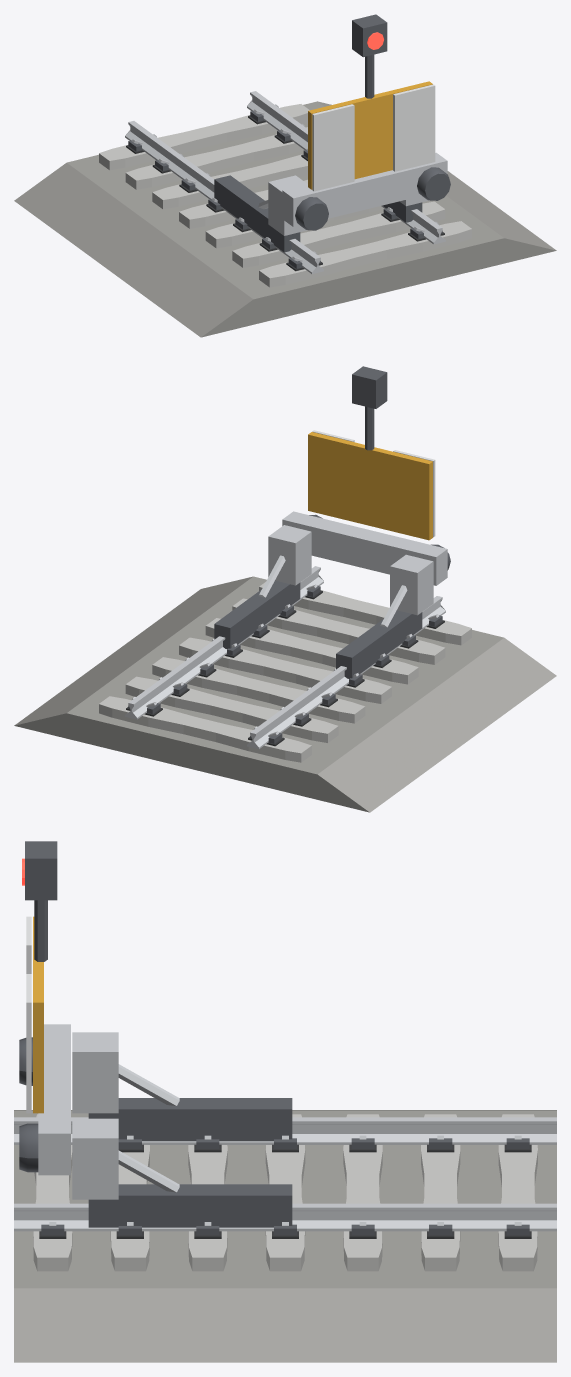
File: modern-rail-and-metro-network-friction-buffer-stop-9b4cc086__13696.glb
3 renders of one model, top to bottom at view 1: azimuth 30°, elevation 25°; view 2: azimuth 150°, elevation 25°; view 3: azimuth 270°, elevation 25°, orthographic. The views are drawn at different scales.
Parts seen in each view (by area): view 1: friction-buffer-stop; view 2: friction-buffer-stop; view 3: friction-buffer-stop.
Part boxes in pixels (x1,y1,x2,y2): friction-buffer-stop: (14, 14, 556, 337); friction-buffer-stop: (14, 366, 556, 812); friction-buffer-stop: (14, 841, 556, 1362).
Bounding box in the file's own units: 4.4 × 3.14 × 4.
